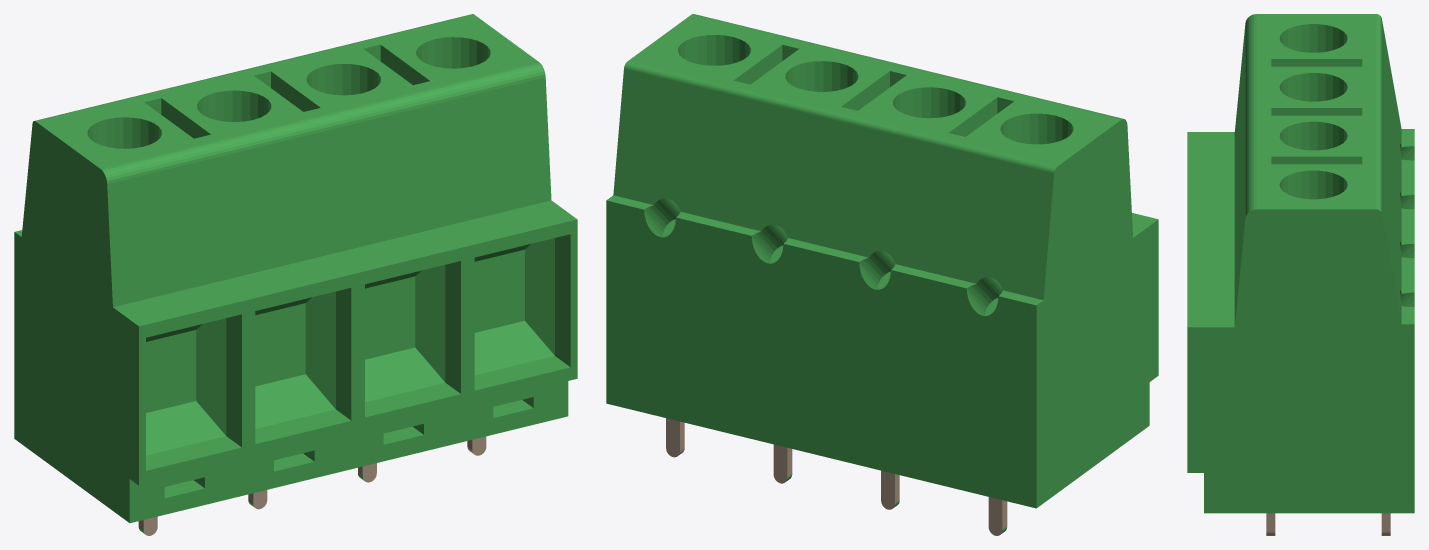
3 views of the same model, side by side, from view 1: azimuth 30°, elevation 25°; view 2: azimuth 150°, elevation 25°; view 3: azimuth 270°, elevation 25° (orthographic). The views are drawn at different scales.
Parts seen in each view (by area): view 1: EM292904-UL; view 2: EM292904-UL; view 3: EM292904-UL.
Boxes of the visible parts, x1,y1,x2,y2 form: EM292904-UL: [14, 14, 577, 535]; EM292904-UL: [606, 14, 1158, 535]; EM292904-UL: [1187, 14, 1414, 535].
Bounding box in the file's own units: 0.0294 × 0.0246 × 0.0145.
